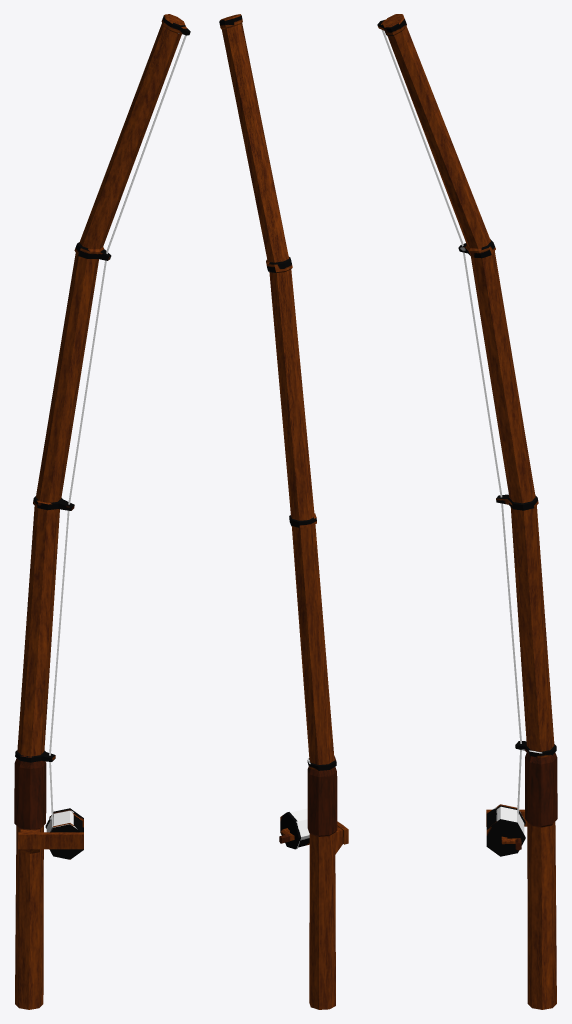
The model's file is rod2.glb.
3 views of the same model, side by side, from view 1: azimuth 90°, elevation 25°; view 2: azimuth 210°, elevation 25°; view 3: azimuth 270°, elevation 25° (orthographic). The views are drawn at different scales.
Visible parts, largest first — view 1: rod; view 2: rod; view 3: rod.
Boxes of the visible parts, x1,y1,x2,y2 form: rod: (14, 14, 190, 1009); rod: (219, 14, 348, 1009); rod: (377, 14, 557, 1009).
Bounding box in the file's own units: 1.78 × 30.51 × 5.
1 material, 1 textured.
